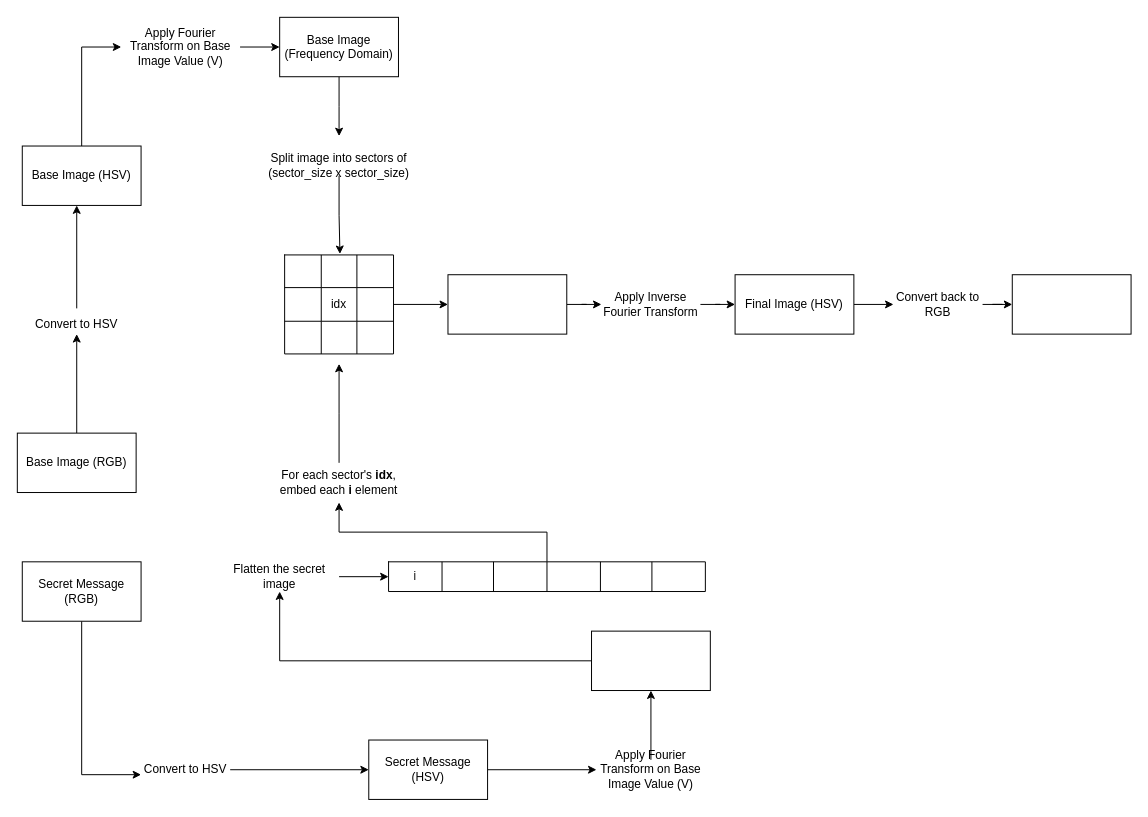
Image size: 1148x817. Some labels were removed from this diagram. The shapes that lost their labels are listed below. From the top down, each one's centre as x and y in pixels, then its label:
At pixel 507 304: "Final Image (Frequency Domain)".
At pixel 1071 304: "Final Image (RGB)".
At pixel 650 660: "Secret Message (Frequency Domain)".
